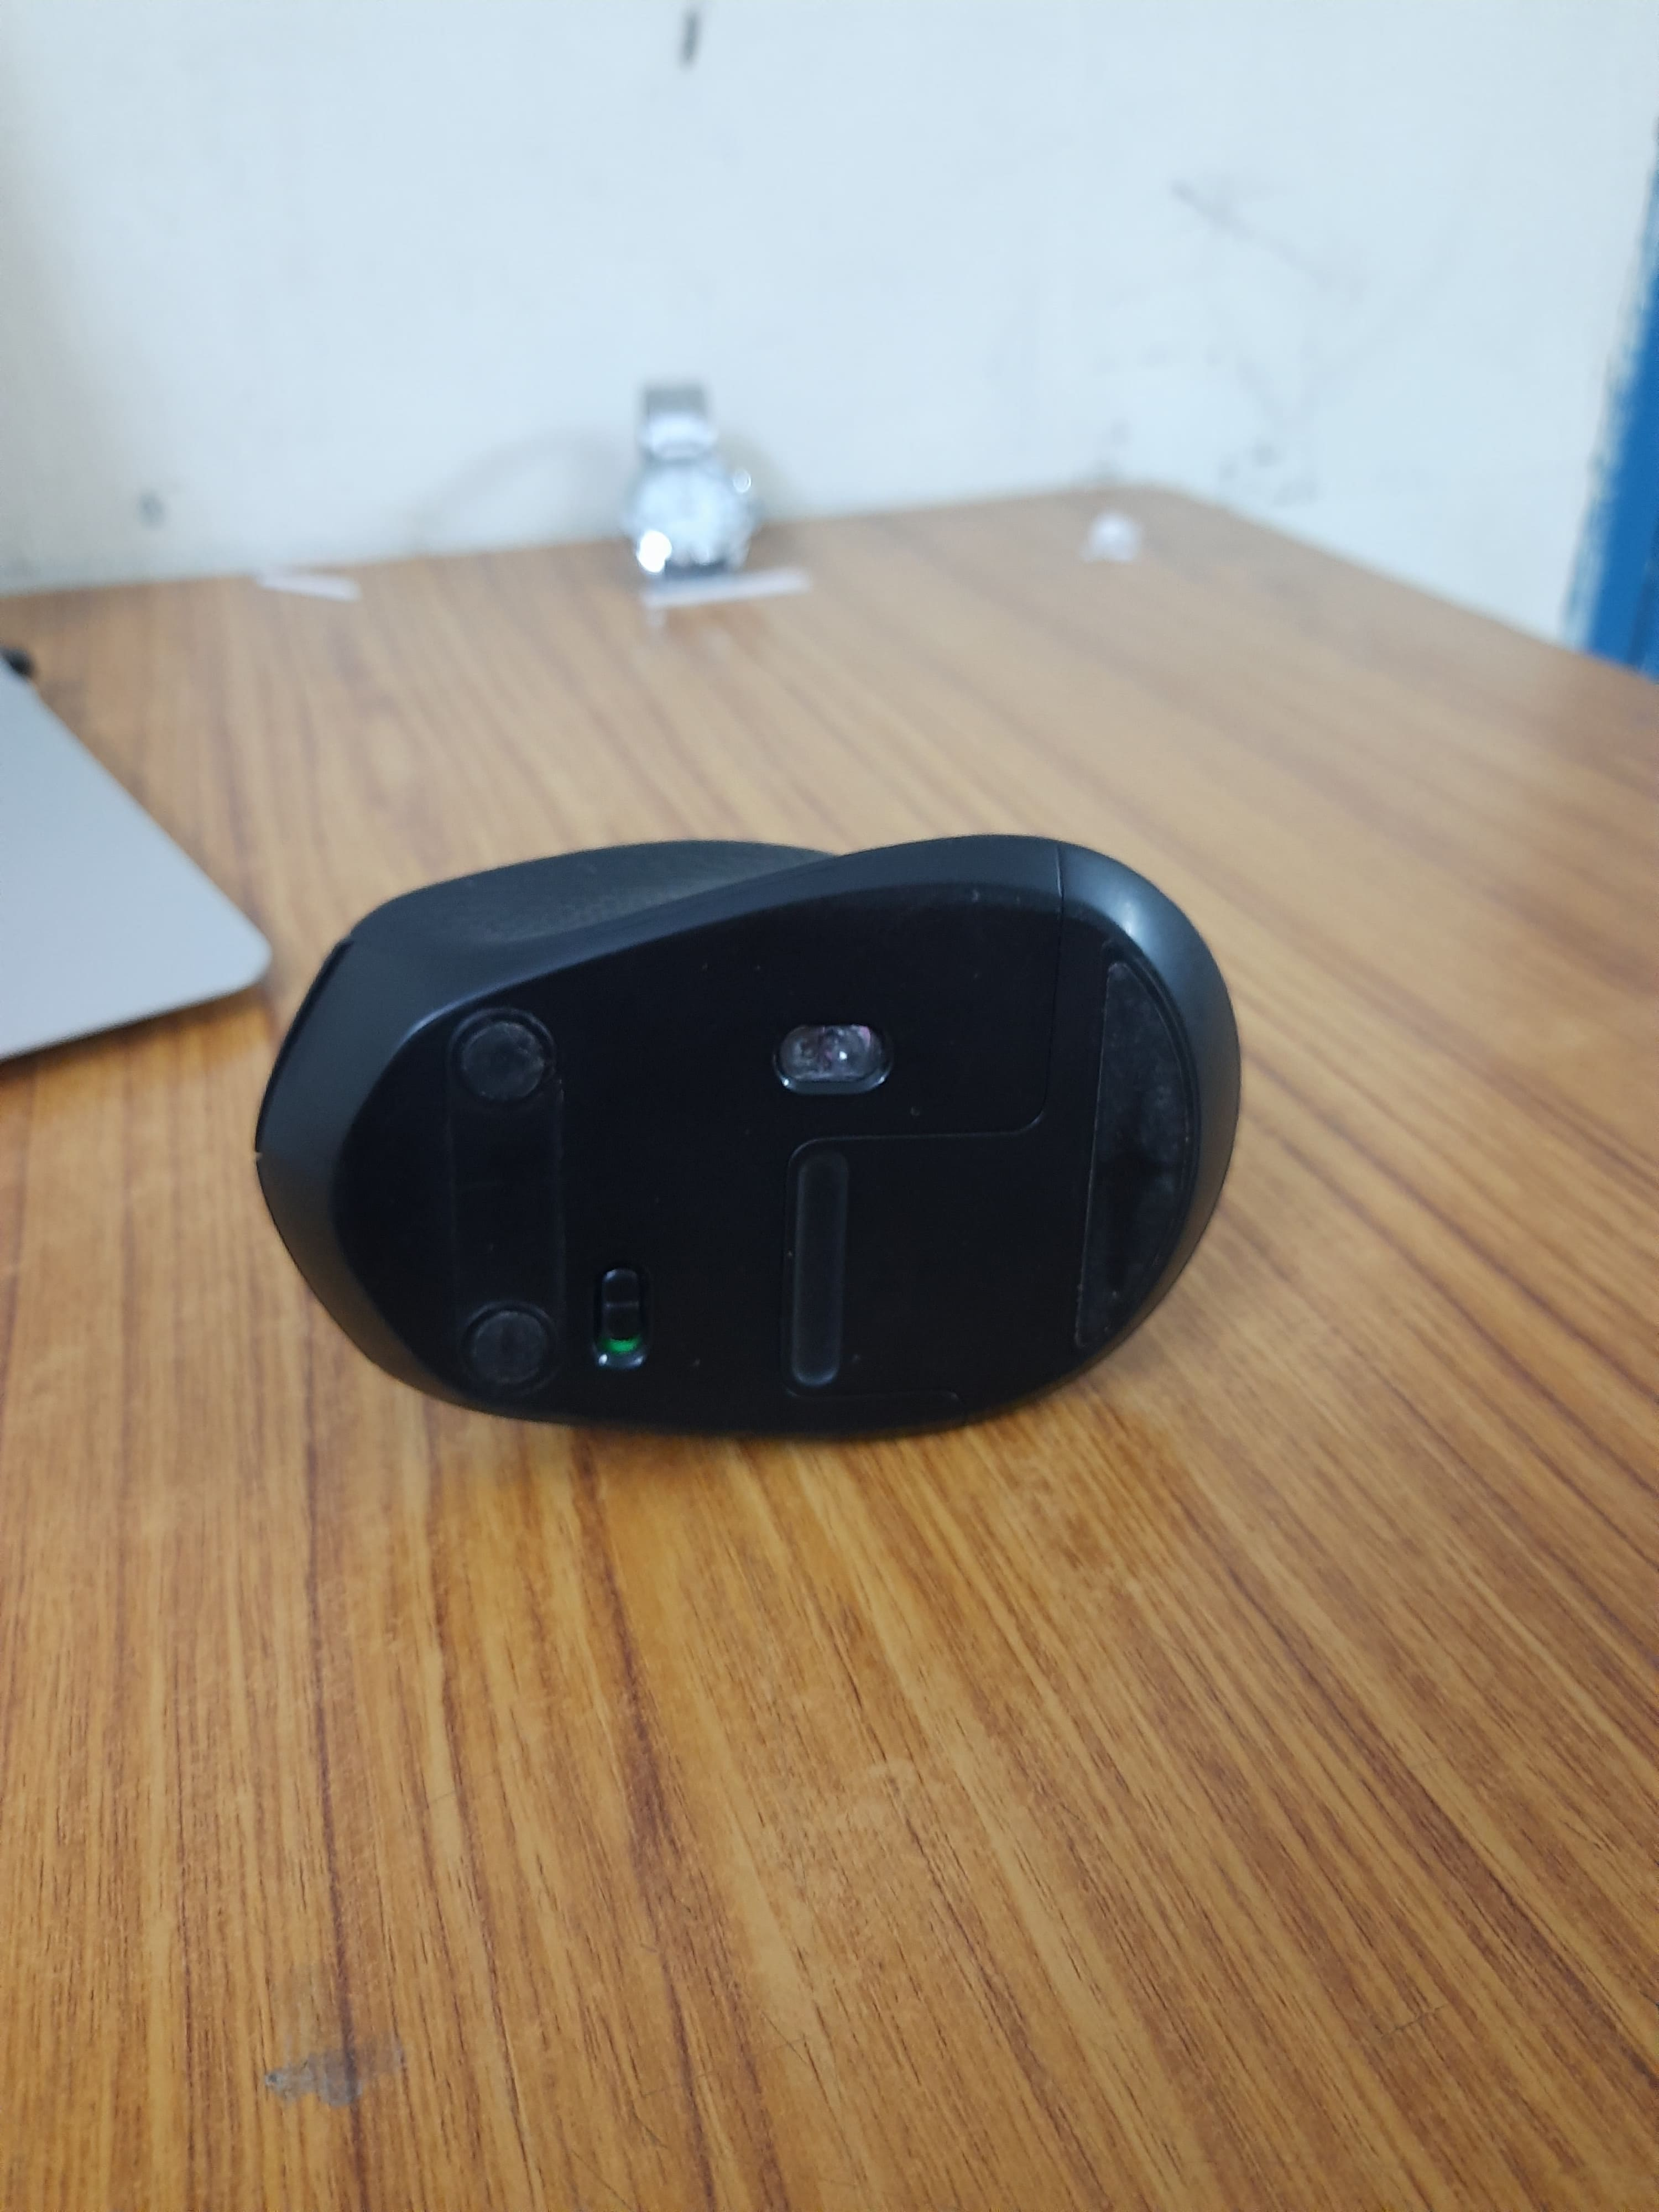Vikash's Mouse: (249, 829, 1246, 1460)
